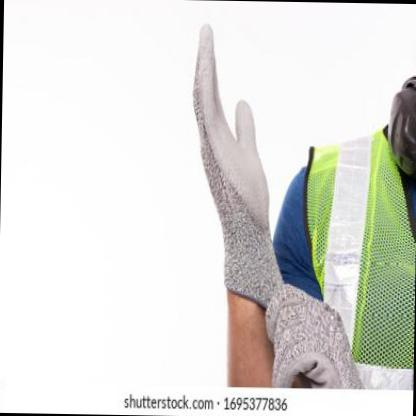Gloves: (187, 23, 290, 309), (262, 279, 367, 388)
